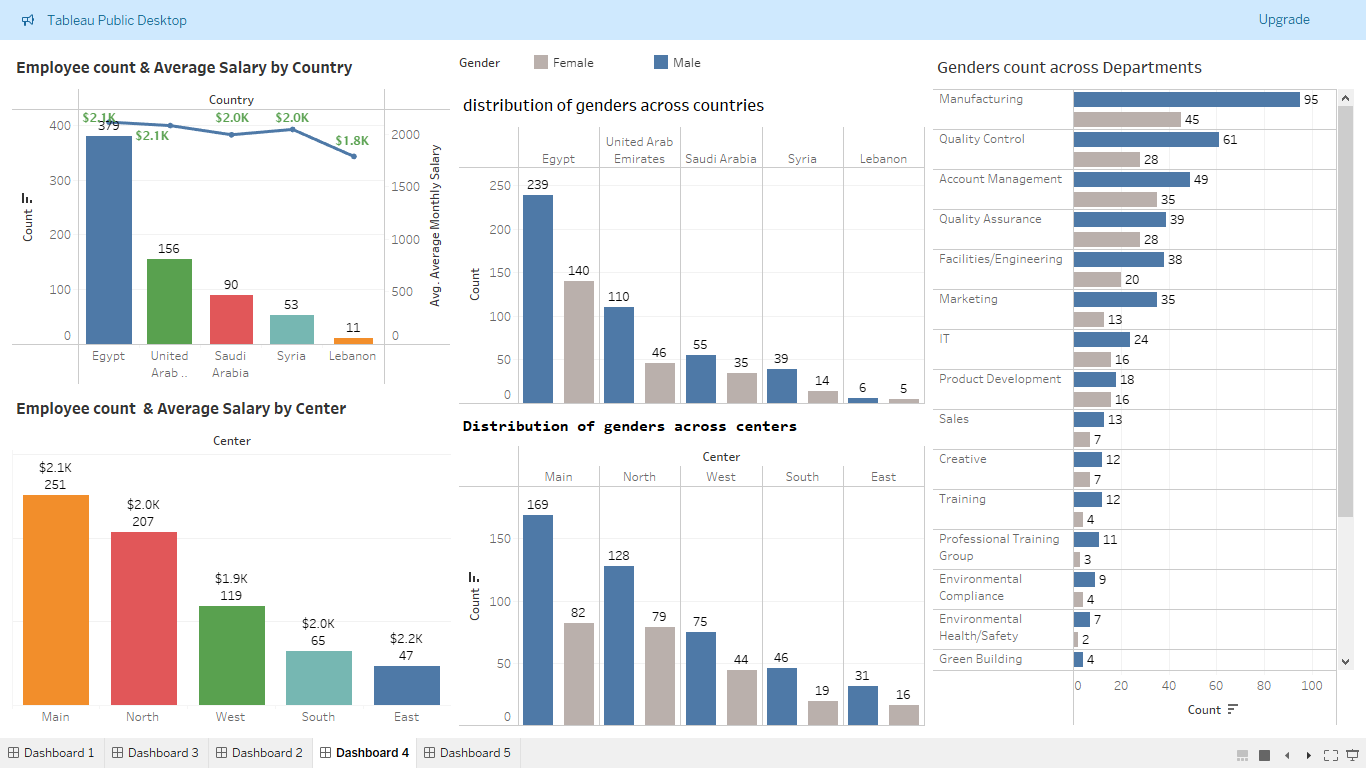

The page's visual inventory and layout, read from the dashboard file:
{"tool":"tableau","page":{"name":"Dashboard 4","canvas":[1000,1000],"units":"permille","ordinal":3},"visuals":[{"type":"worksheet","title":"Sheet 10","mark":"Bar","rows":["count"],"cols":["country"],"box":[6.9,13.5,326.4,486.5]},{"type":"legend","title":"Sheet 11","param":"[federated.06fpr6b1bu1uhe148iyy11g8si1r].[none:gender:nk]","box":[333.3,13.5,346.3,54]},{"type":"worksheet","title":"Sheet 11","mark":"Automatic","rows":["department","gender"],"cols":["count"],"box":[679.6,13.5,313.4,973]},{"type":"worksheet","title":"Sheet 12","mark":"Automatic","rows":["count"],"cols":["country","gender"],"box":[333.3,67.5,346.3,459.5]},{"type":"worksheet","title":"Sheet 10 (2)","mark":"Bar","rows":["count"],"cols":["center"],"box":[6.9,500,326.4,486.5]},{"type":"worksheet","title":"Sheet 14","mark":"Automatic","rows":["count"],"cols":["center","gender"],"box":[333.3,526.9,346.3,459.6]}]}

Visuals, with their boxes on the dashboard's canvas, which has no fixed pixel size, in thousandths of its width and height (x1, y1, x2, y2). These are canvas units, not pixel positions in the 1366x768 screenshot, which may show the page scaled, cropped or inside an application window:
"Sheet 10" worksheet (Bar marks): [7,14,333,500]
"Sheet 11" legend: [333,14,680,68]
"Sheet 11" worksheet: [680,14,993,986]
"Sheet 12" worksheet: [333,68,680,527]
"Sheet 10 (2)" worksheet (Bar marks): [7,500,333,986]
"Sheet 14" worksheet: [333,527,680,986]
